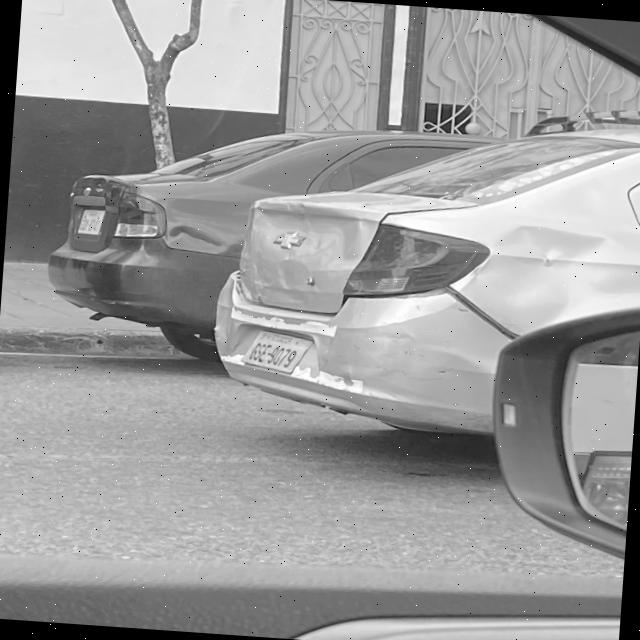Placa: (243, 331, 313, 373), (78, 209, 105, 235)
